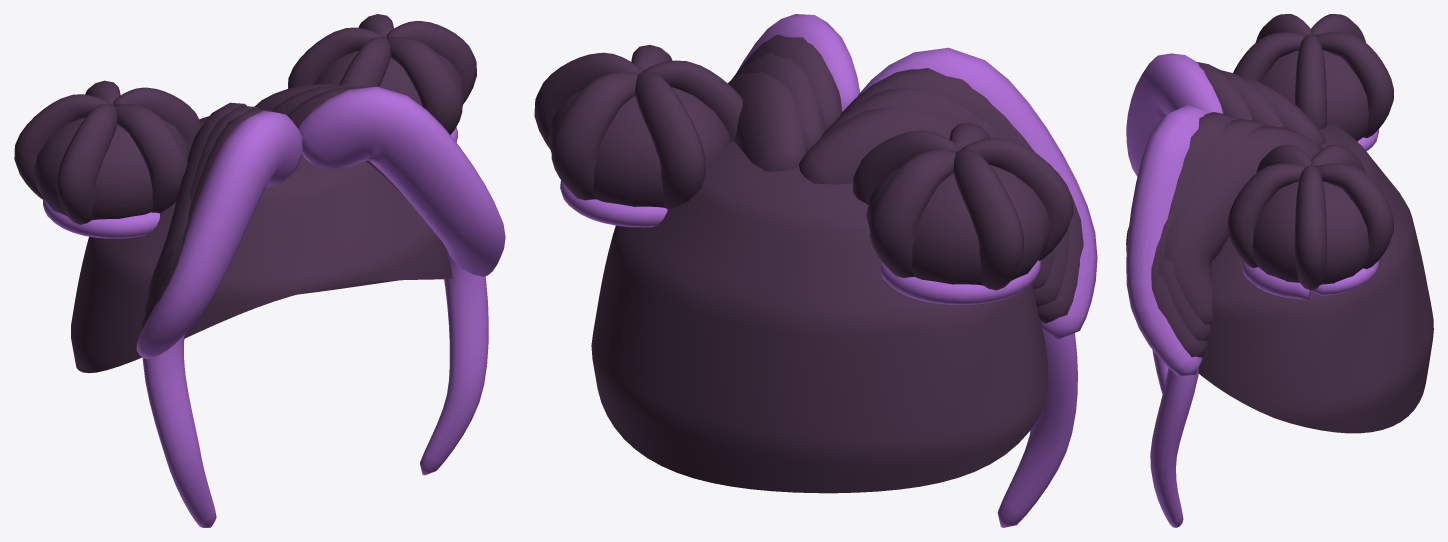
The model's file is studio_double_buns_default.glb.
3 views of the same model, side by side, from view 1: azimuth 30°, elevation 25°; view 2: azimuth 150°, elevation 25°; view 3: azimuth 270°, elevation 25° (orthographic). The views are drawn at different scales.
Parts seen in each view (by area): view 1: double_buns; view 2: double_buns; view 3: double_buns.
Part boxes in pixels (x1,y1,x2,y2): double_buns: (14, 14, 505, 527); double_buns: (534, 14, 1097, 527); double_buns: (1126, 14, 1433, 527).
Size of the model in its own units: 0.5999 by 0.5201 by 0.3712.
